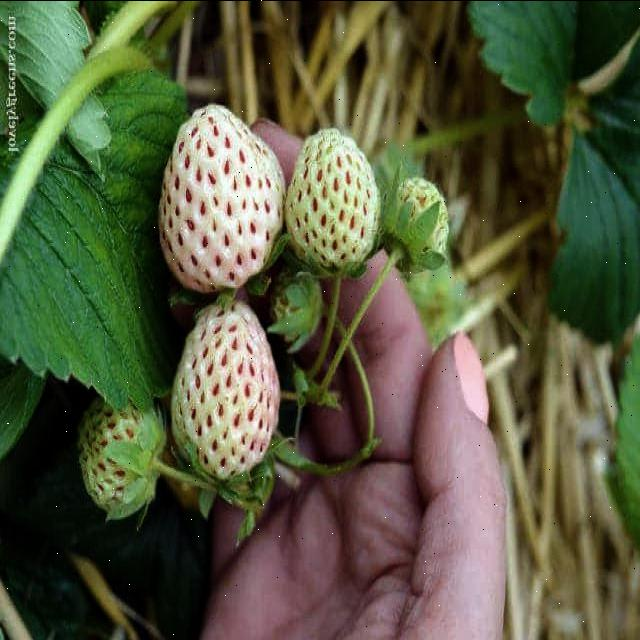strawberry: (155, 102, 287, 294), (175, 296, 282, 484), (290, 128, 381, 272), (79, 396, 163, 512)
